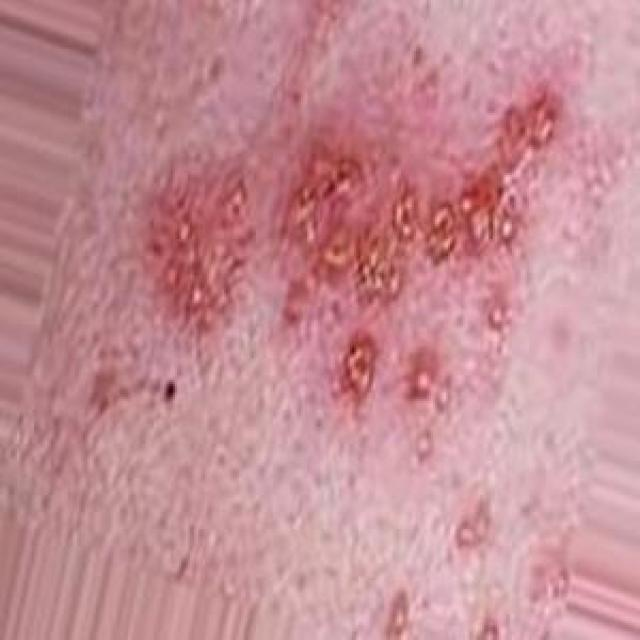Shingles: (139, 91, 563, 403)
